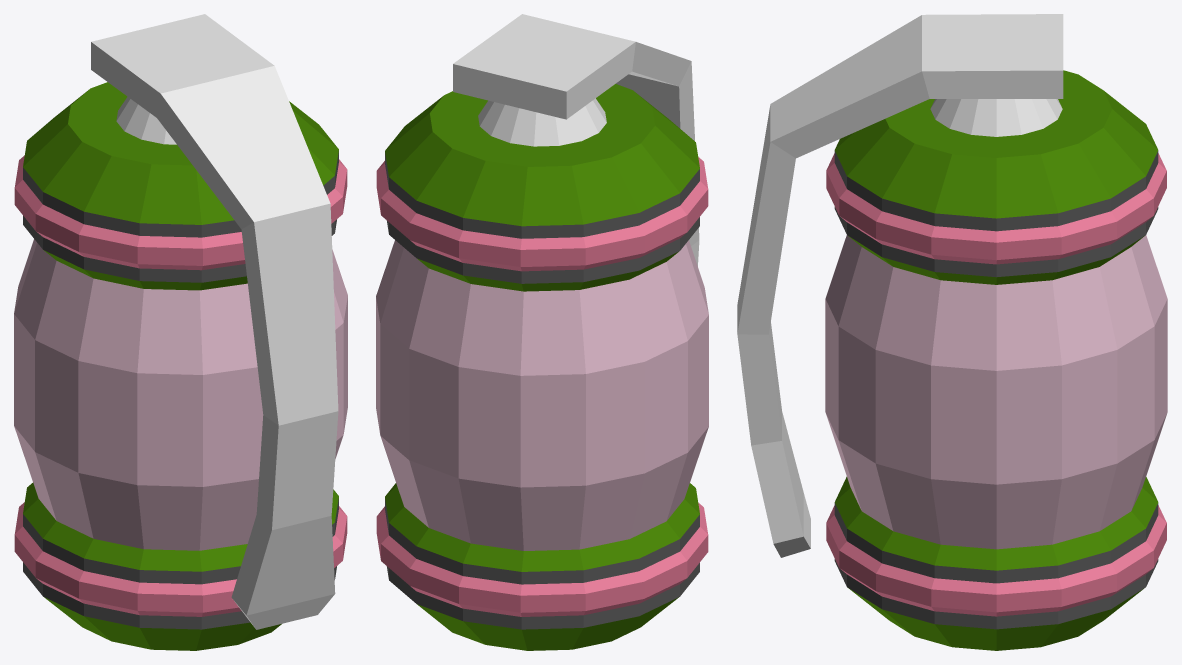
The model's file is Г5 Граната с жидкой взрывчаткой .fbx.
3 renders of one model, left to right at view 1: azimuth 30°, elevation 25°; view 2: azimuth 150°, elevation 25°; view 3: azimuth 270°, elevation 25°, orthographic.
Parts seen in each view (by area): view 1: Cylinder.001, Plane, Cylinder; view 2: Cylinder, Cylinder.001, Plane; view 3: Cylinder.001, Cylinder, Plane.
Boxes of the visible parts, x1,y1,x2,y2 form: Cylinder.001: (14,239,347,550); Plane: (91,14,338,629); Cylinder: (14,82,347,650); Cylinder: (376,84,708,650); Cylinder.001: (376,240,708,550); Plane: (453,14,699,266); Cylinder.001: (825,235,1167,549); Cylinder: (826,70,1166,650); Plane: (737,14,1063,557).
Bounding box in the file's own units: 256 × 462 × 322.
